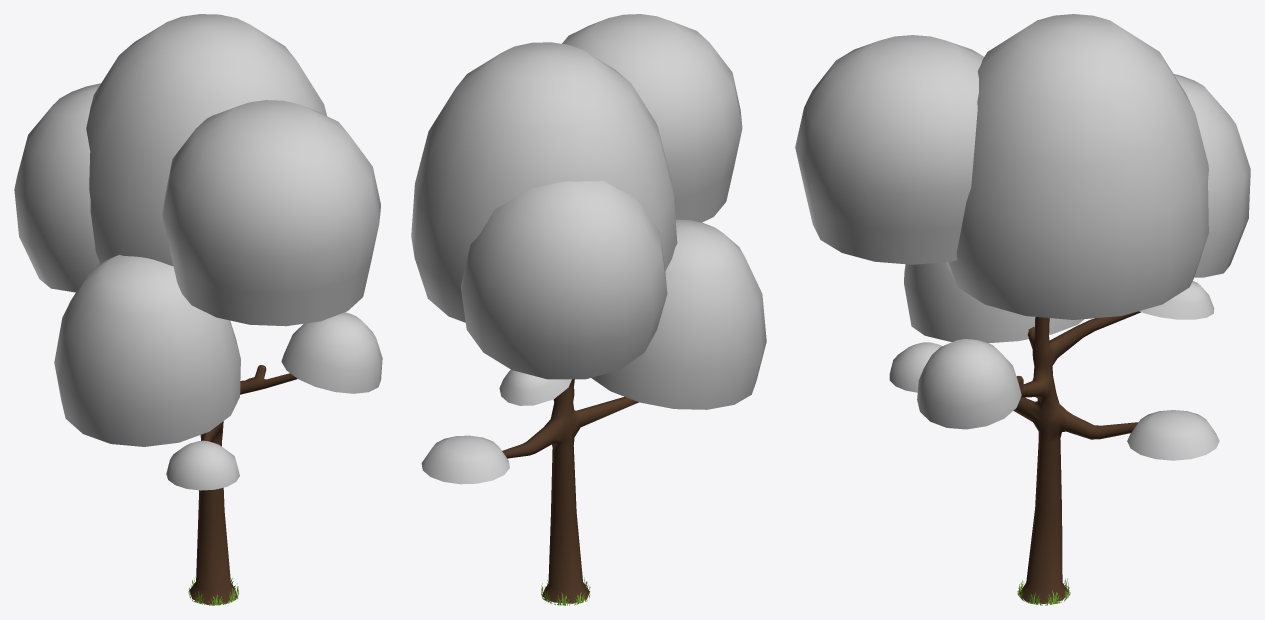
Rendered from SM_Oaktree.fbx.
The picture shows the model from 3 angles, left to right: view 1: azimuth 30°, elevation 25°; view 2: azimuth 150°, elevation 25°; view 3: azimuth 270°, elevation 25°; orthographic projection. The views are drawn at different scales.
Parts seen in each view (by area): view 1: tree; view 2: tree; view 3: tree.
Boxes of the visible parts, <box> form: tree: <box>14,14,382,604</box>; tree: <box>411,14,766,603</box>; tree: <box>795,14,1250,603</box>.
Size of the model in its own units: 106 by 193 by 139.
